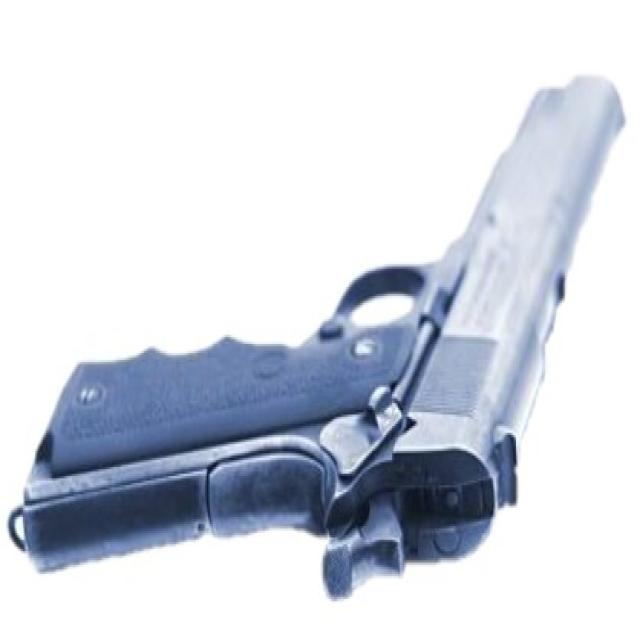pistol: (3, 64, 634, 607)
